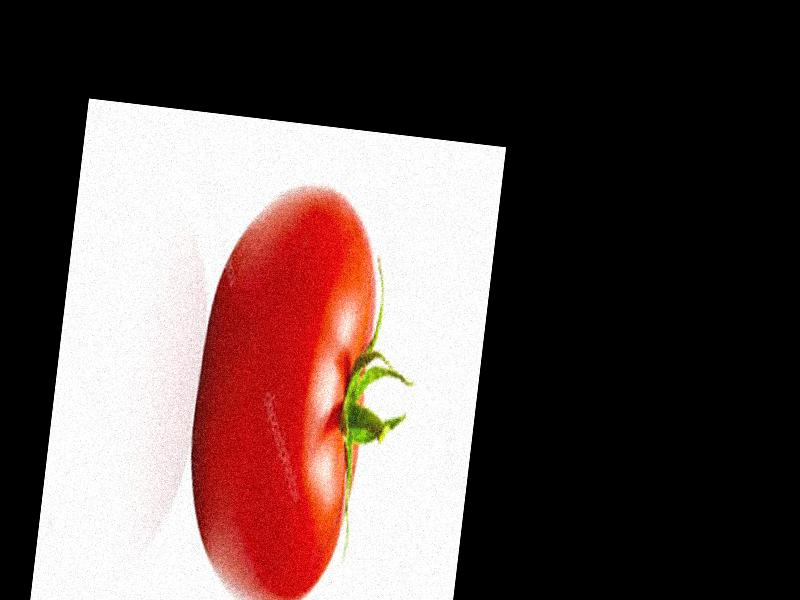Tomato: (173, 173, 388, 600)
